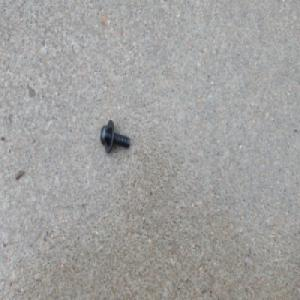BoltWasher: (100, 118, 130, 153)
